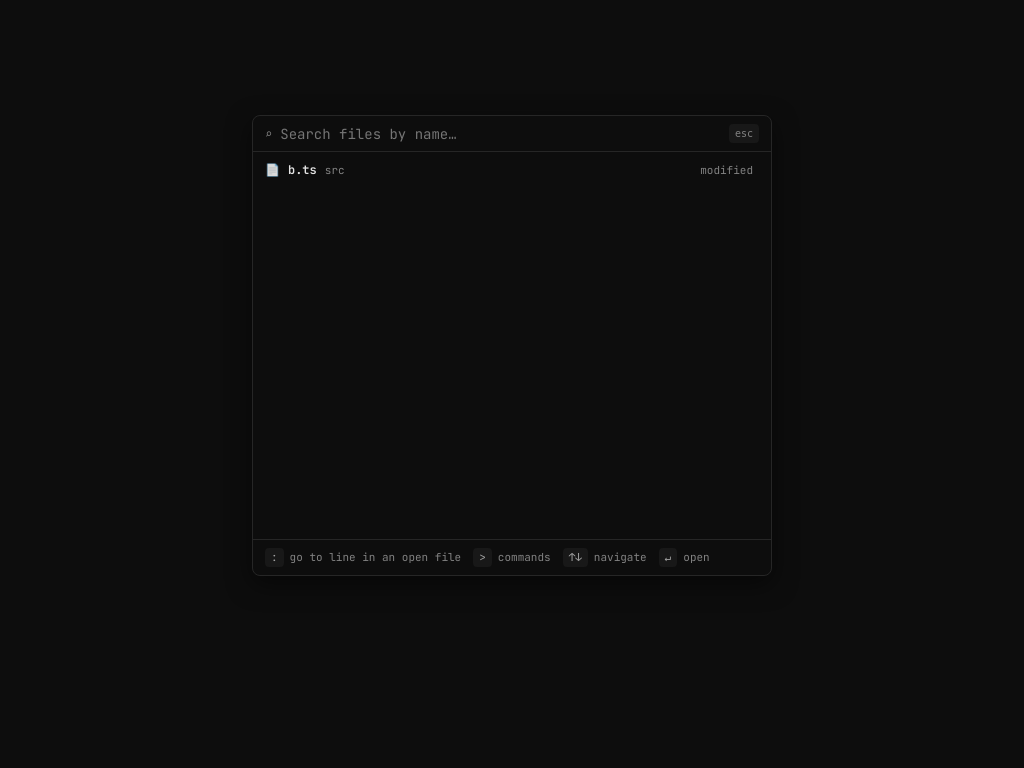
Test: QuickOpen › 5.T7b: typing a query drops the changed-first ordering
The image size is (1024, 768).
Check: the text "modified" is shown, box [700,163,753,177]
In the search field: point(501, 134) [280,125,721,143], type "ts"
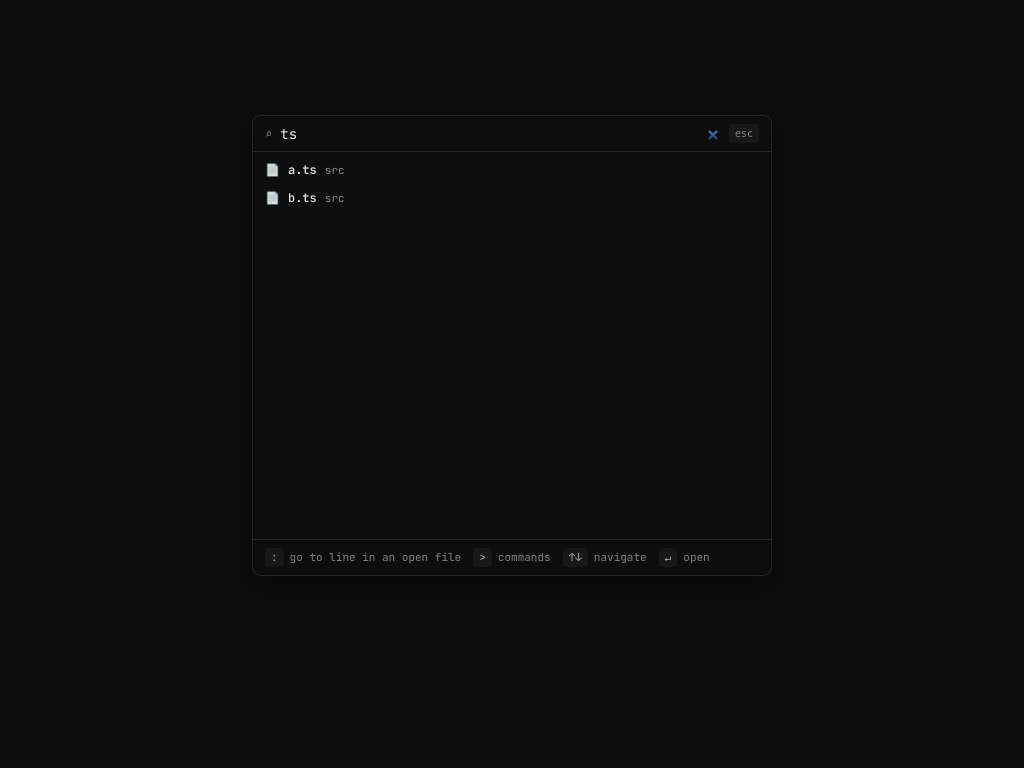
Check: the button "modified" is gone
